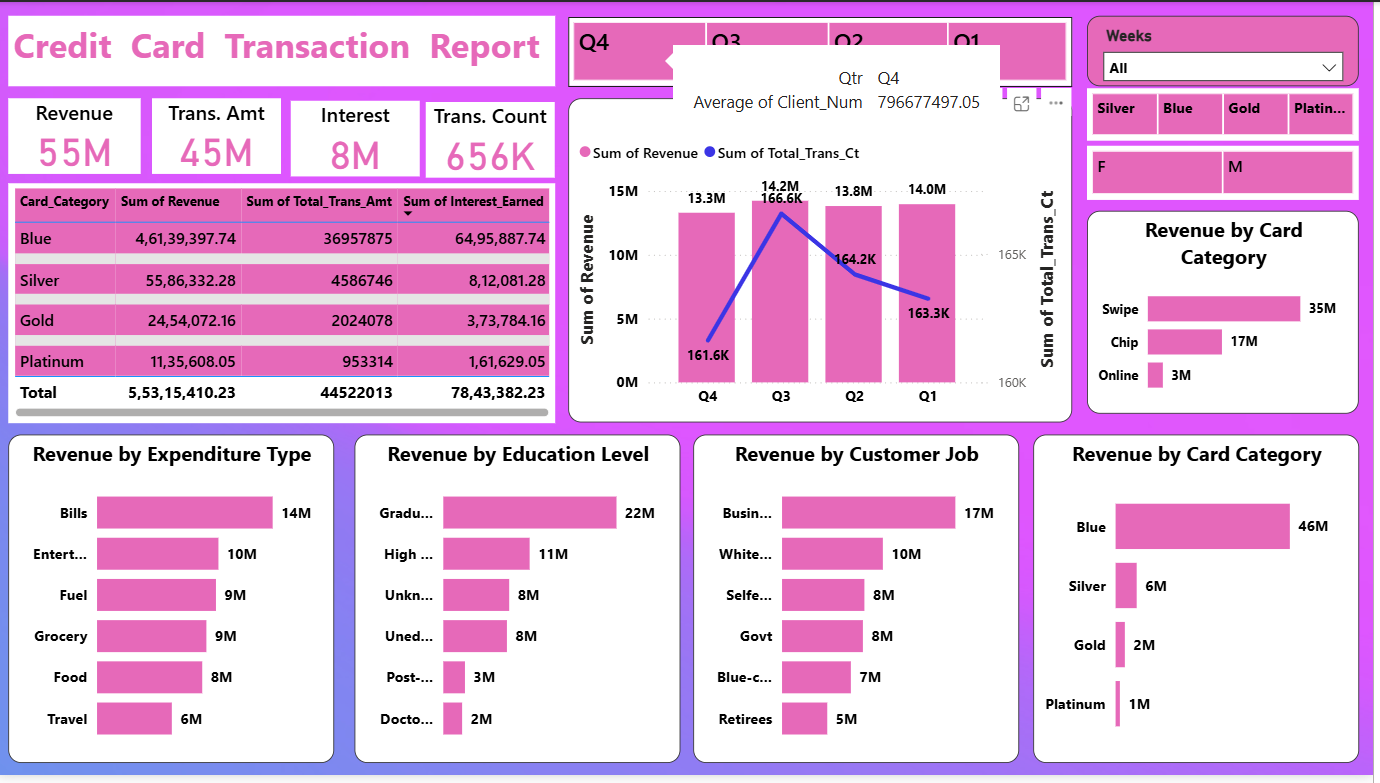

This screenshot's page, from the dashboard's own definition file:
{"tool":"powerbi","page":{"name":"Page 2","canvas":[1280,720],"ordinal":1},"visuals":[{"type":"textbox","box":[10,12.9,508.6,65.7],"z":0},{"type":"lineStackedColumnComboChart","title":"Revenue and Total Trans  Count","fields":{"Category":["ccdb cc_detail.Qtr"],"Y":["Sum(ccdb cc_detail.Revenue)"],"Y2":["Sum(ccdb cc_detail.Total_Trans_Ct)"]},"box":[531.4,90,468.6,301.4],"z":1000},{"type":"barChart","title":" Revenue by Expenditure Type","fields":{"Y":["Sum(ccdb cc_detail.Revenue)"],"Category":["ccdb cc_detail.Exp_Type"]},"box":[10,402.9,303,305.7],"z":2000},{"type":"barChart","title":" Revenue by Education Level","fields":{"Y":["Sum(ccdb cc_detail.Revenue)"],"Category":["ccdb cust_detail.Education_Level"]},"box":[332.9,402.9,303,305.7],"z":3000},{"type":"barChart","title":" Revenue by Customer Job","fields":{"Y":["Sum(ccdb cc_detail.Revenue)"],"Category":["ccdb cust_detail.Customer_Job"]},"box":[647.1,402.9,302.9,305.7],"z":4000},{"type":"barChart","title":" Revenue by Card Category","fields":{"Y":["Sum(ccdb cc_detail.Revenue)"],"Category":["ccdb cc_detail.Card_Category"]},"box":[964.3,402.9,302.9,305.7],"z":5000},{"type":"barChart","title":" Revenue by Card Category","fields":{"Y":["Sum(ccdb cc_detail.Revenue)"],"Category":["ccdb cc_detail.Use_Chip"]},"box":[1014.3,194.3,252.9,188.6],"z":6000},{"type":"tableEx","fields":{"Values":["ccdb cc_detail.Card_Category","Sum(ccdb cc_detail.Revenue)","Sum(ccdb cc_detail.Total_Trans_Amt)","Sum(ccdb cc_detail.Interest_Earned)"]},"box":[10,168.6,508.6,222.9],"z":7000},{"type":"card","title":"Interest ","fields":{"Values":["Sum(ccdb cc_detail.Interest_Earned)"]},"box":[272.9,91.4,120,70],"z":8000},{"type":"card","title":"Revenue","fields":{"Values":["Sum(ccdb cc_detail.Revenue)"]},"box":[10,90,122.9,70],"z":9000},{"type":"card","title":"Trans. Amt","fields":{"Values":["Sum(ccdb cc_detail.Total_Trans_Amt)"]},"box":[144.3,90,120,70],"z":10000},{"type":"card","title":"Trans. Count","fields":{"Values":["Sum(ccdb cc_detail.Total_Trans_Ct)"]},"box":[398.6,92.9,120,70],"z":11000},{"type":"slicer","fields":{"Values":["ccdb cc_detail.Week_Start_Date"]},"box":[1014.3,12.9,252.9,65.7],"z":12000},{"type":"treemap","fields":{"Group":["ccdb cc_detail.Qtr"],"Values":["Avg(ccdb cc_detail.Client_Num)"]},"box":[531.4,14.3,468.6,64.3],"z":13000},{"type":"treemap","fields":{"Group":["ccdb cust_detail.Gender"],"Values":["Avg(ccdb cc_detail.Client_Num)"]},"box":[1014.3,134.3,252.9,50],"z":14000},{"type":"treemap","fields":{"Group":["ccdb cc_detail.Card_Category"],"Values":["Avg(ccdb cc_detail.Client_Num)"]},"box":[1014.3,80,252.9,48.6],"z":15000}]}

Visuals, with their boxes in screenshot pixels (x1, y1, x2, y2), scaled from the page's 1280x720 canvas onto the 1380x783 screenshot:
textbox: 11, 14, 559, 85
"Revenue and Total Trans  Count" lineStackedColumnComboChart: 573, 98, 1078, 426
" Revenue by Expenditure Type" barChart: 11, 438, 337, 771
" Revenue by Education Level" barChart: 359, 438, 686, 771
" Revenue by Customer Job" barChart: 698, 438, 1024, 771
" Revenue by Card Category" barChart: 1040, 438, 1366, 771
" Revenue by Card Category" barChart: 1094, 211, 1366, 416
tableEx - ccdb cc_detail.Card_Category x Sum(ccdb cc_detail.Revenue): 11, 183, 559, 426
"Interest " card: 294, 99, 424, 176
"Revenue" card: 11, 98, 143, 174
"Trans. Amt" card: 156, 98, 285, 174
"Trans. Count" card: 430, 101, 559, 177
slicer - ccdb cc_detail.Week_Start_Date: 1094, 14, 1366, 85
treemap - ccdb cc_detail.Qtr x Avg(ccdb cc_detail.Client_Num): 573, 16, 1078, 85
treemap - ccdb cust_detail.Gender x Avg(ccdb cc_detail.Client_Num): 1094, 146, 1366, 200
treemap - ccdb cc_detail.Card_Category x Avg(ccdb cc_detail.Client_Num): 1094, 87, 1366, 140
